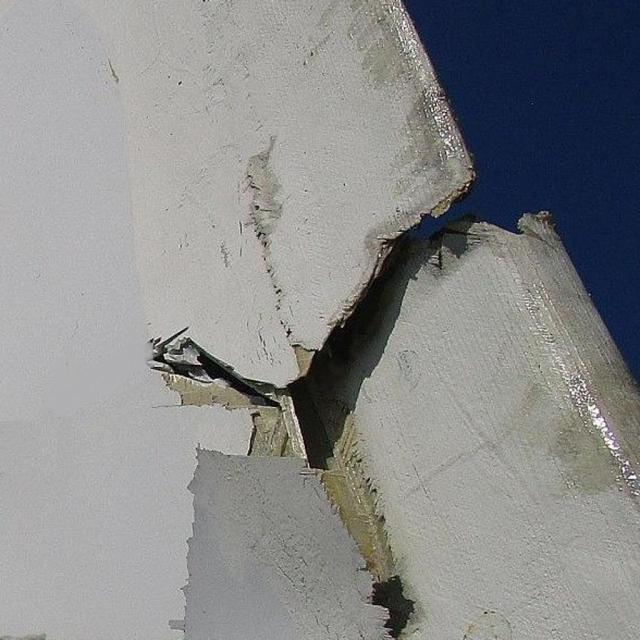crack: (142, 158, 577, 623)
